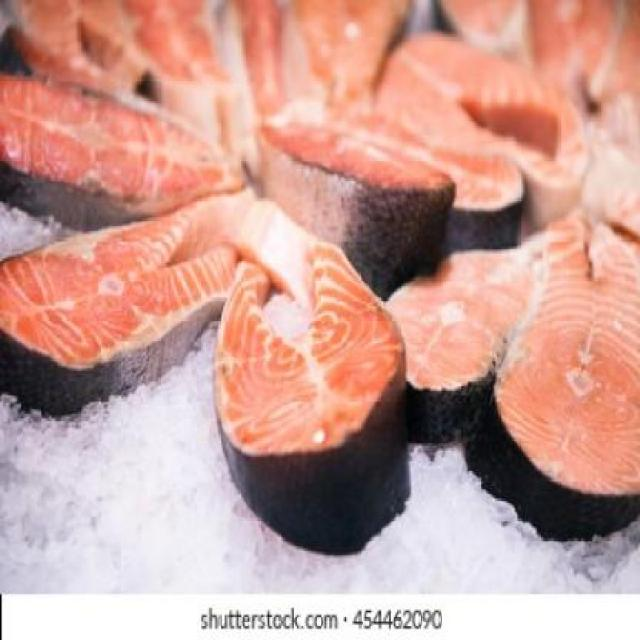salmon: (196, 189, 434, 564), (5, 192, 297, 416), (467, 187, 640, 540), (374, 194, 585, 468), (2, 56, 246, 254), (366, 23, 598, 226), (252, 97, 460, 300), (351, 86, 536, 249)
